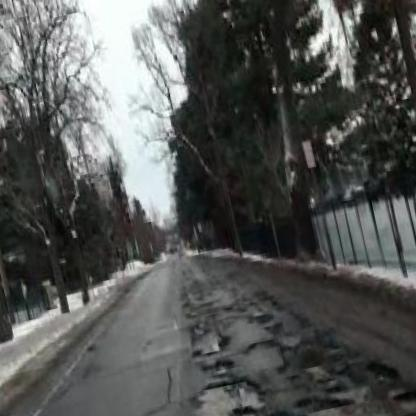pothole: (364, 350, 401, 390), (292, 386, 343, 413), (197, 352, 232, 377), (230, 400, 258, 416)
